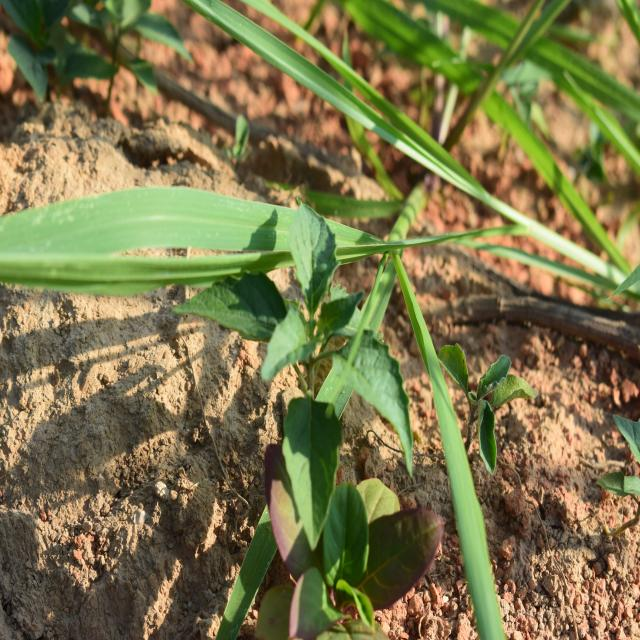Black_nightshade: (214, 192, 416, 502)
